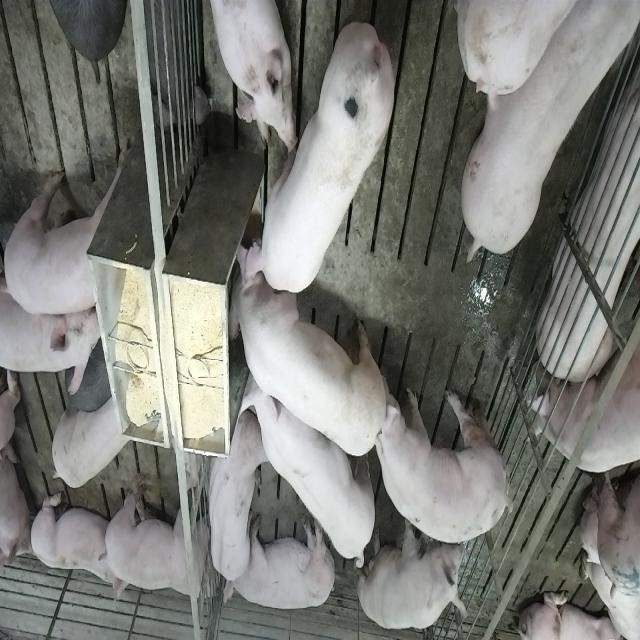Feeding: (242, 20, 398, 298), (220, 255, 384, 466)
Lateral_lying: (539, 24, 640, 387), (222, 512, 338, 612)
Sitting: (356, 512, 468, 632)
Standing: (456, 2, 635, 266), (242, 354, 378, 570), (377, 377, 519, 547), (2, 160, 122, 320), (100, 466, 219, 604), (531, 339, 640, 474), (3, 269, 108, 396), (51, 392, 136, 488)
Sternal_lying: (206, 0, 295, 154), (203, 409, 266, 585), (29, 488, 119, 608)
